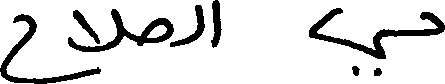ا: (212, 0, 220, 48)
ح: (0, 11, 36, 81), (142, 15, 173, 46), (420, 9, 444, 36)
ل: (193, 2, 203, 41)
لا: (67, 7, 123, 80)
ي: (308, 6, 386, 76)
